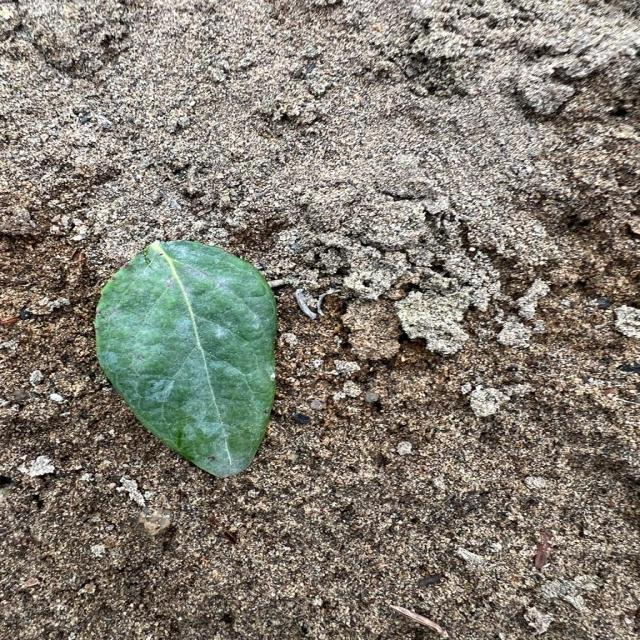Hojas con oidiosis: (96, 242, 287, 474)
